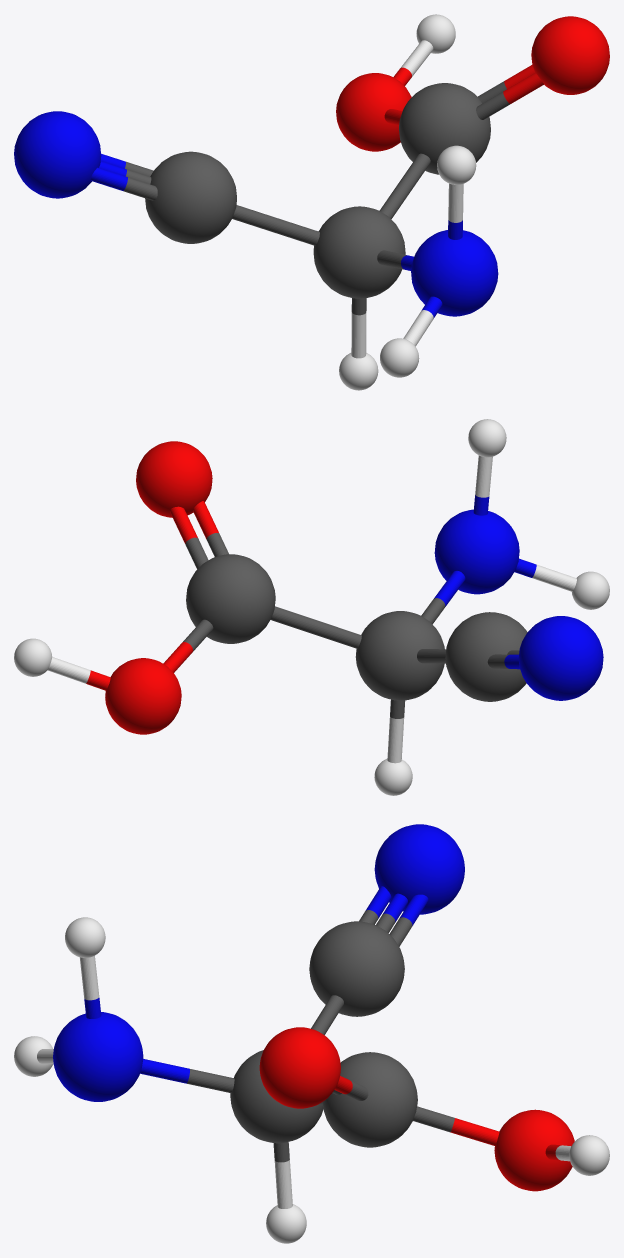
The model's file is 2-cyano-2-aminoaceticacid.glb.
3 views of the same model, one above another, from view 1: azimuth 30°, elevation 25°; view 2: azimuth 150°, elevation 25°; view 3: azimuth 270°, elevation 25° (orthographic). The views are drawn at different scales.
Parts seen in each view (by area): view 1: C07, C05, N04, N03, C06, O02, O01, N04#C07.001, O02=C06, C05-C07, H09, H10 (+8 smaller); view 2: C06, C05, N04, N03, C07, O01, O02, O02=C06, C05-C06, H10, H11, H09 (+7 smaller); view 3: C07, C06, N03, N04, O02, O01, C05, N04#C07.001, N03-C05, O01-C06, H10, H11 (+5 smaller).
Boxes of the visible parts, <box> form: C07: <box>145,151,236,243</box>; C05: <box>313,206,405,298</box>; N04: <box>14,111,101,198</box>; N03: <box>411,230,498,316</box>; C06: <box>399,83,490,174</box>; O02: <box>531,16,609,94</box>; O01: <box>336,73,411,151</box>; N04#C07.001: <box>90,153,157,200</box>; O02=C06: <box>476,65,543,119</box>; C05-C07: <box>232,205,319,245</box>; H09: <box>380,338,419,377</box>; H10: <box>437,145,476,184</box>; C06: <box>186,554,275,643</box>; C05: <box>355,611,444,700</box>; N04: <box>518,616,603,700</box>; N03: <box>434,509,519,594</box>; C07: <box>445,612,527,701</box>; O01: <box>105,658,181,734</box>; O02: <box>136,441,212,517</box>; O02=C06: <box>170,501,228,569</box>; C05-C06: <box>270,606,361,648</box>; H10: <box>468,419,506,457</box>; H11: <box>14,638,52,676</box>; H09: <box>572,571,609,609</box>; C07: <box>309,921,404,1016</box>; C06: <box>322,1052,417,1147</box>; N03: <box>53,1012,143,1101</box>; N04: <box>374,824,464,914</box>; O02: <box>259,1027,340,1108</box>; O01: <box>494,1109,574,1191</box>; C05: <box>230,1050,323,1143</box>; N04#C07.001: <box>359,886,428,946</box>; N03-C05: <box>140,1059,234,1092</box>; O01-C06: <box>413,1106,499,1145</box>; H10: <box>65,917,105,957</box>; H11: <box>569,1135,609,1175</box>.
Size of the model in its own units: 4.94 by 2.8 by 4.68.
